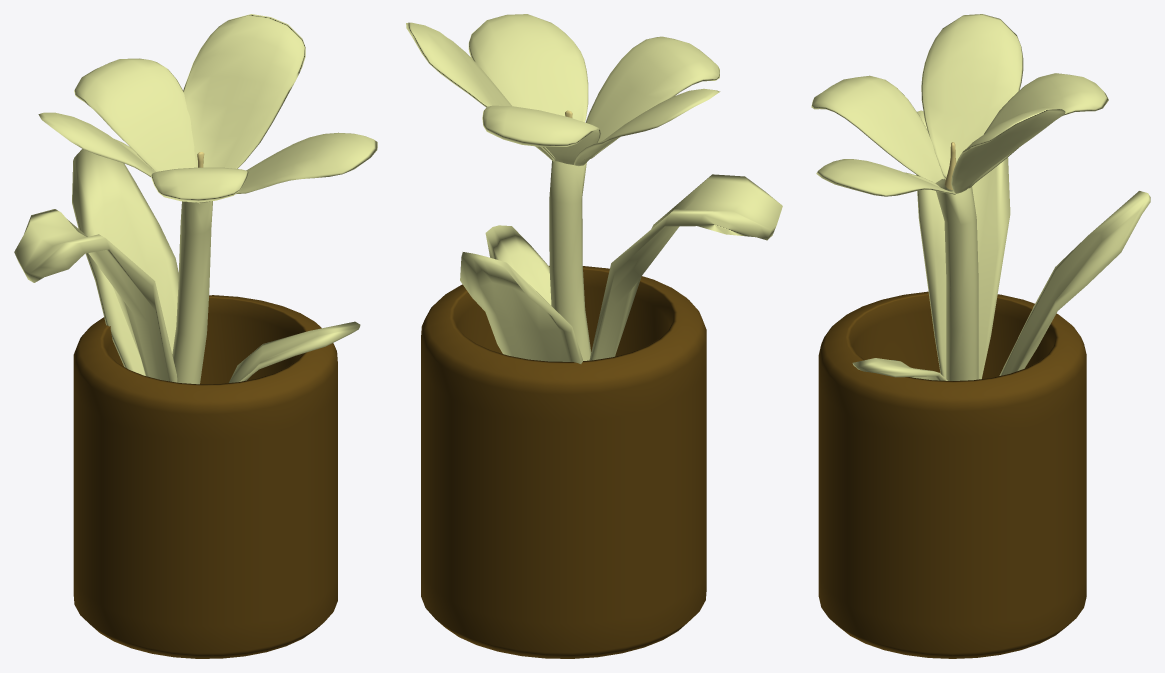
File: ViolaStatue.fbx
3 renders of one model, left to right at view 1: azimuth 30°, elevation 25°; view 2: azimuth 150°, elevation 25°; view 3: azimuth 270°, elevation 25°, orthographic. The views are drawn at different scales.
Visible parts, largest first — view 1: Cylinder, Leave.003, Leave2.002; view 2: Cylinder, Leave.003, Leave2.002; view 3: Cylinder, Leave.003, Leave2.002.
Boxes of the visible parts, box(x1,y1,x2,y2) form: Cylinder: box(73, 295, 337, 658); Leave.003: box(38, 14, 377, 203); Leave2.002: box(14, 149, 360, 384); Cylinder: box(421, 266, 706, 658); Leave.003: box(406, 14, 720, 166); Leave2.002: box(460, 161, 782, 363); Cylinder: box(818, 291, 1086, 658); Leave.003: box(811, 14, 1108, 196); Leave2.002: box(852, 110, 1150, 380).
Bounding box in the file's own units: 895 × 1473 × 836.
